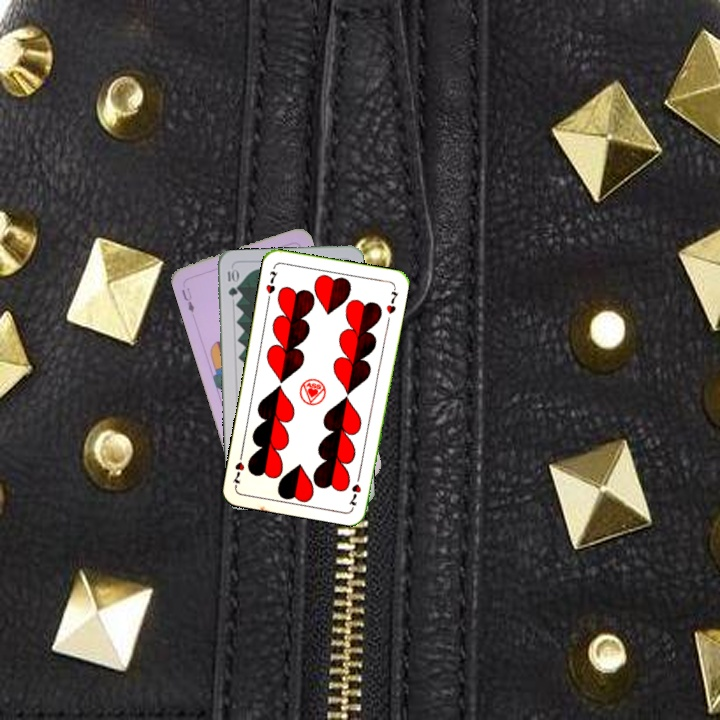EU: (178, 283, 197, 315)
G10: (223, 265, 240, 299)
H7: (346, 470, 364, 508), (262, 267, 280, 304)
